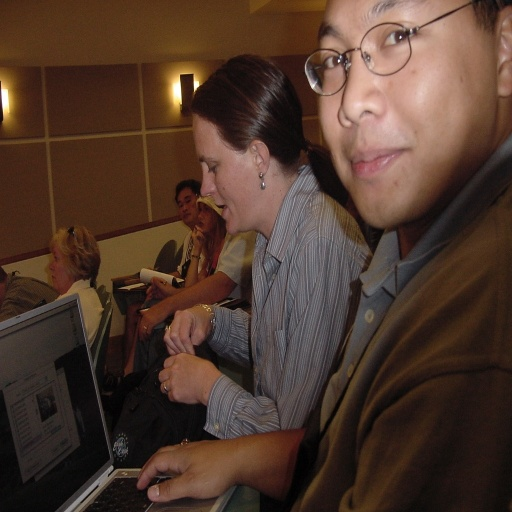hand: (111, 439, 241, 503), (158, 353, 220, 406), (162, 310, 211, 356), (139, 304, 170, 343), (145, 275, 173, 302), (192, 224, 205, 246)
